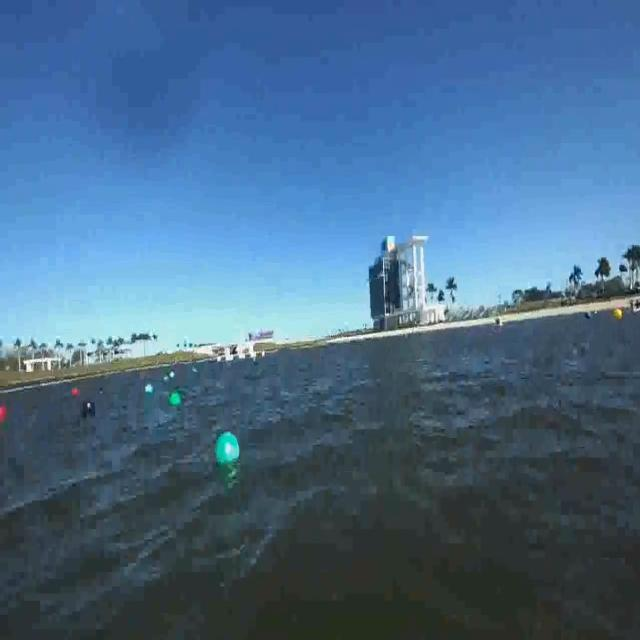black-buoy: (84, 402, 98, 416)
green-buoy: (215, 432, 241, 467), (169, 389, 183, 408), (144, 381, 153, 393)
red-buoy: (0, 406, 7, 422), (72, 388, 80, 397)
yellow-buoy: (615, 305, 625, 320)
